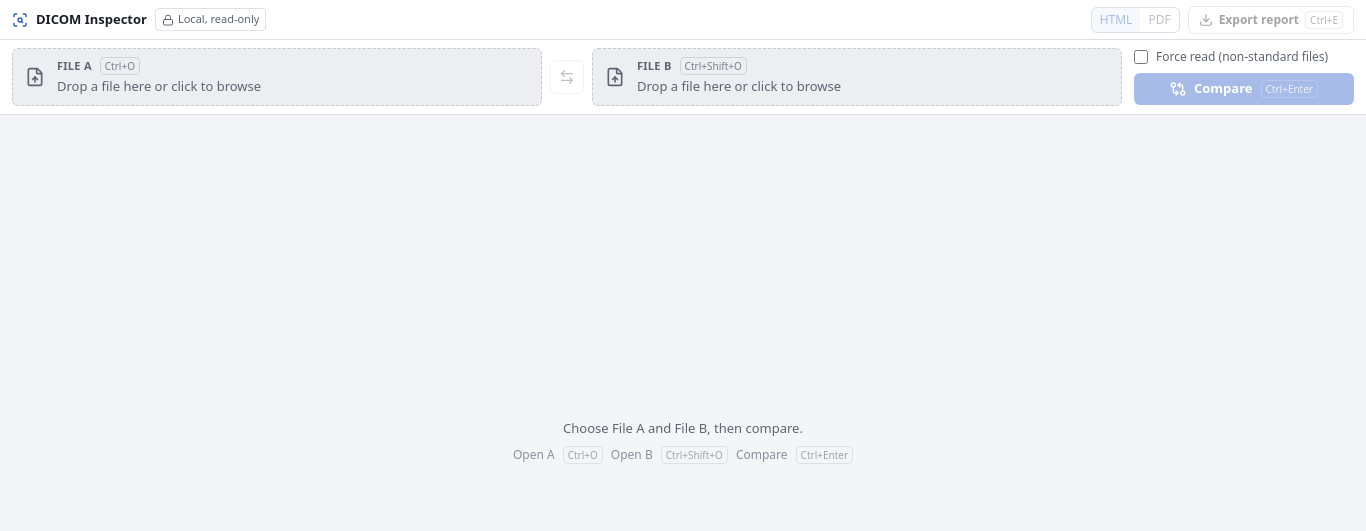
Test: App › shows a timeout as an inline error
Click the button with aria-label "Choose File A" at [74, 65], box [13,49,541,104]
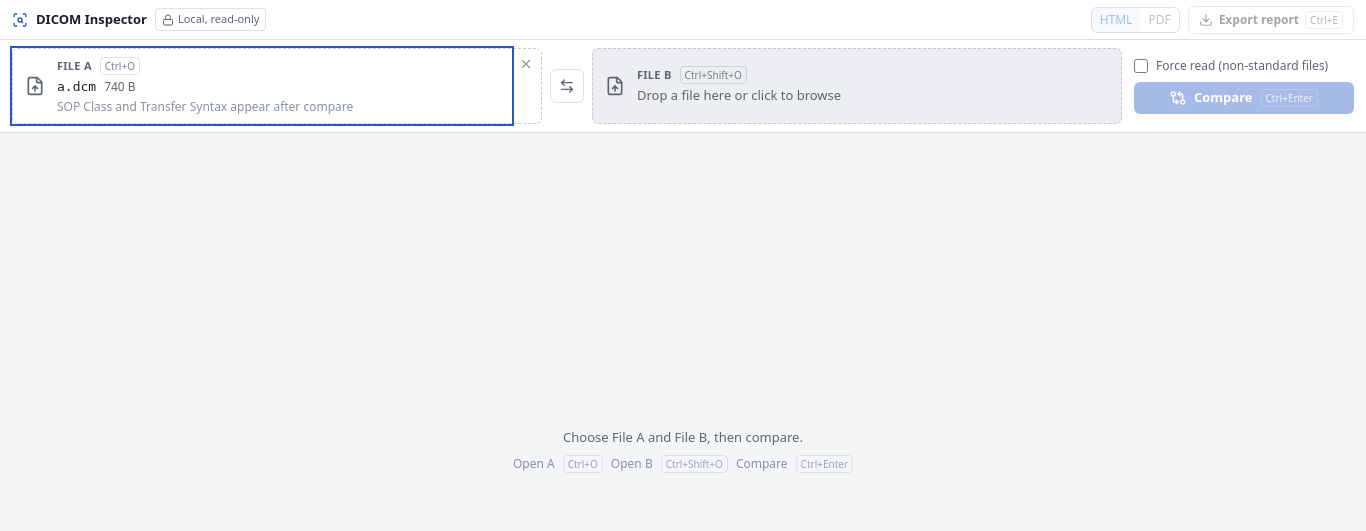
Click the button with aria-label "Choose File B" at [654, 74], box [593,49,1121,122]
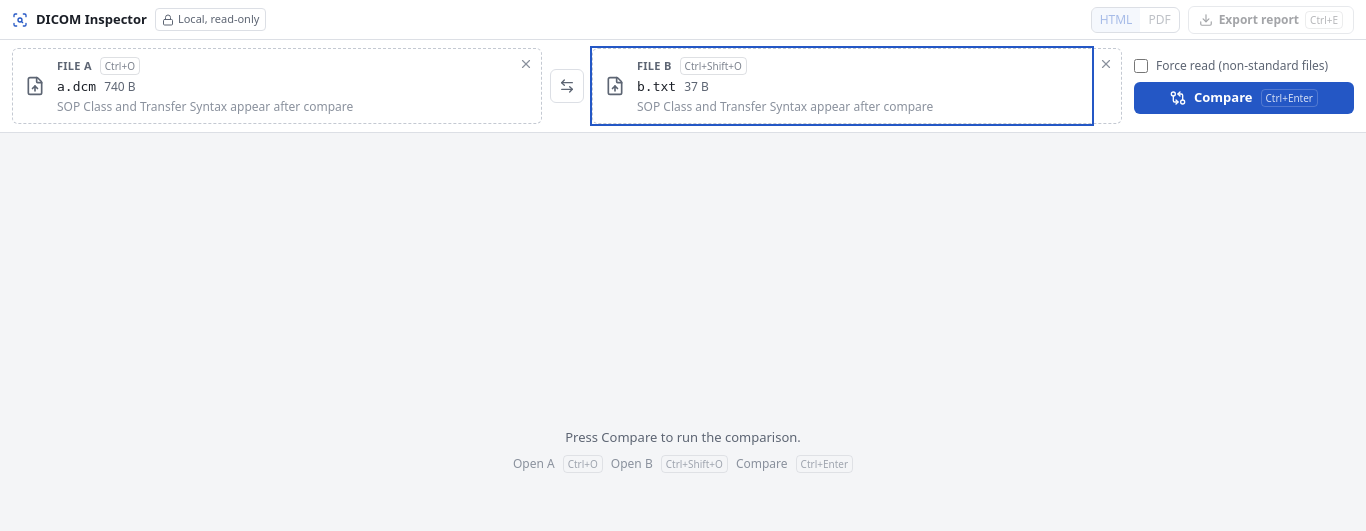
Expected: the text "b.txt" is shown, [637,77,676,96]
Click the button "Compare Ctrl+Enter" at [1244, 98], box [1134,82,1354,114]
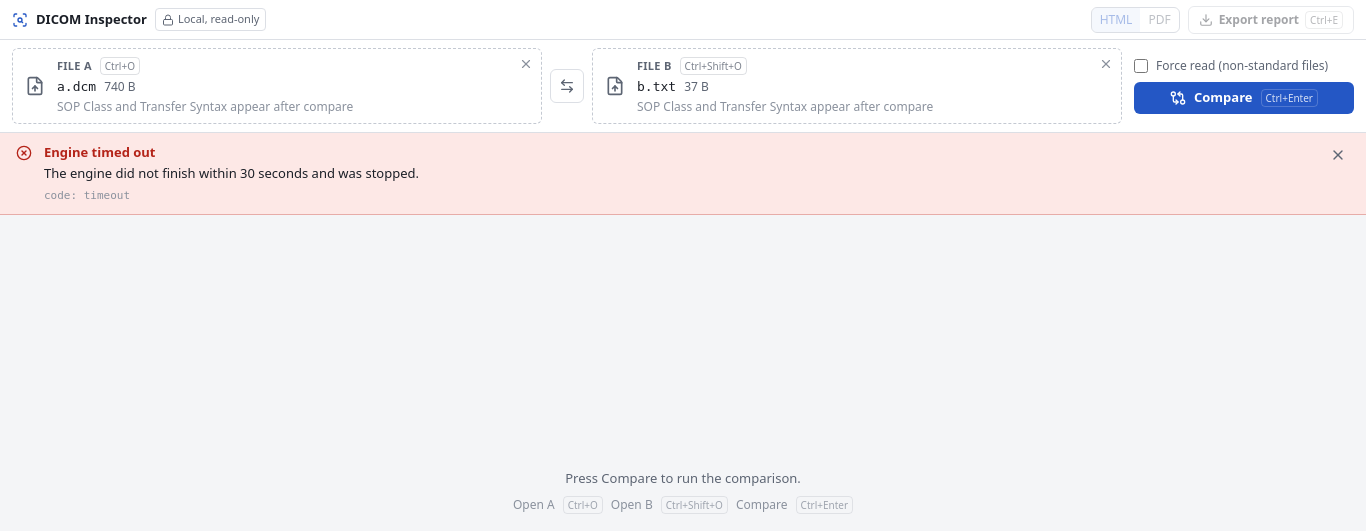
Expected: the message shows "Engine timed out", [44,142,156,160]
